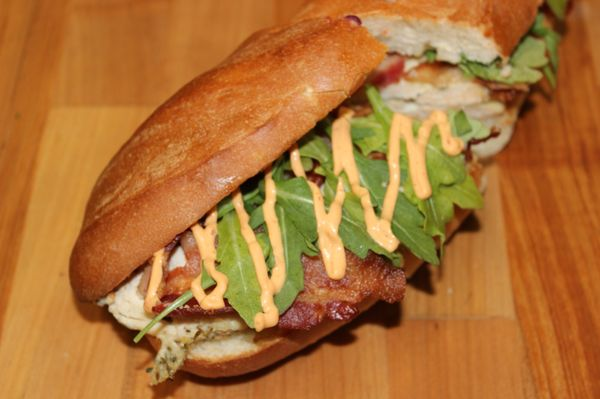soup: (67, 7, 508, 383)
